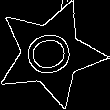O_E: (20, 27, 81, 81)
